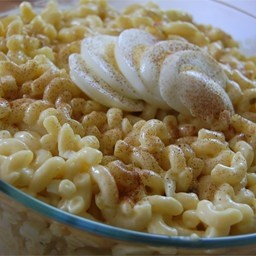background: (0, 0, 102, 102)
